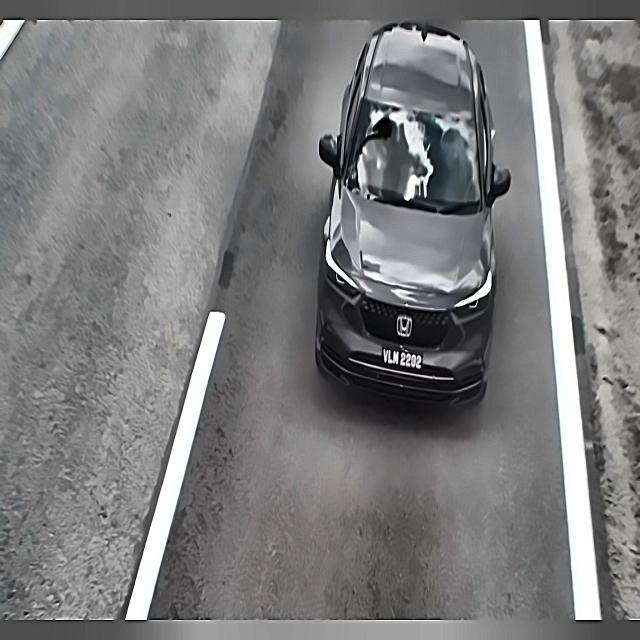car: (376, 335, 427, 380)
